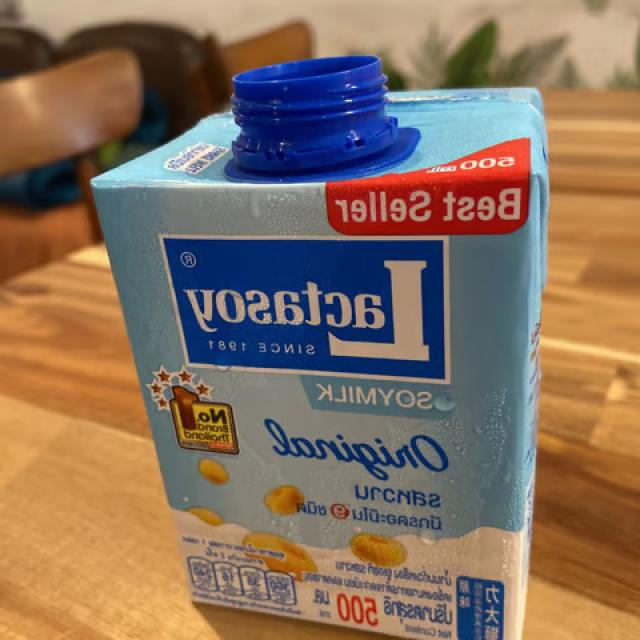cardboard: (92, 56, 555, 640)
